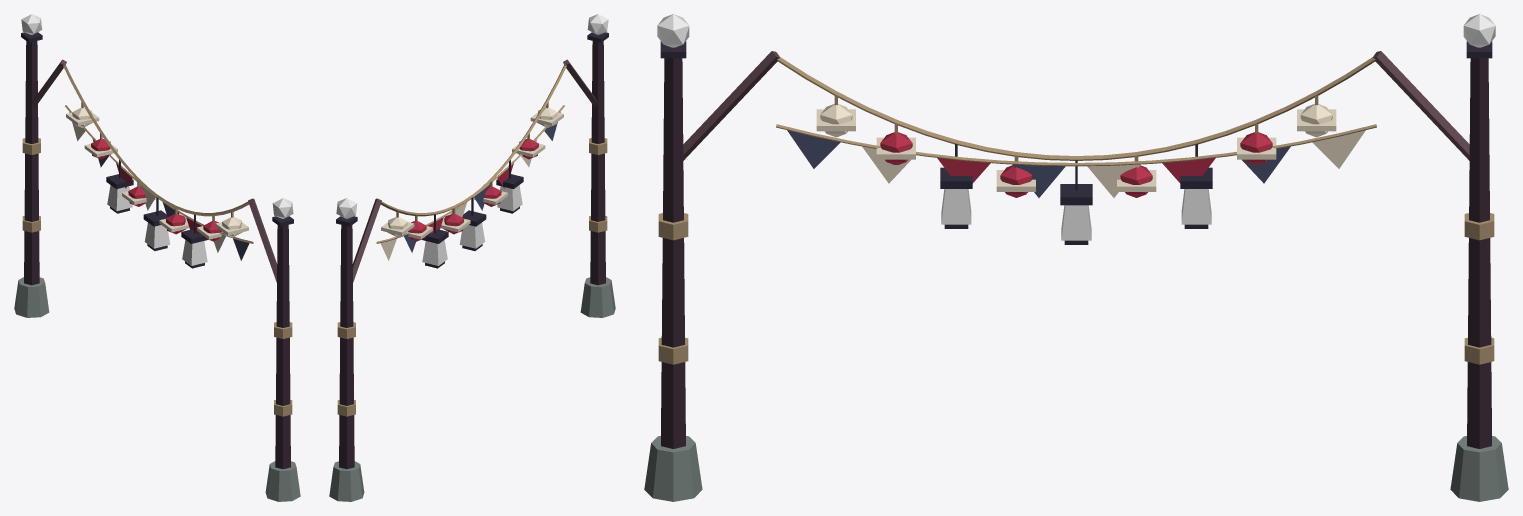
Rendered from Fair_BuoyLine.fbx.
The picture shows the model from 3 angles, left to right: view 1: azimuth 30°, elevation 25°; view 2: azimuth 150°, elevation 25°; view 3: azimuth 270°, elevation 25°; orthographic projection. The views are drawn at different scales.
Parts seen in each view (by area): view 1: Fair_BuoyLine; view 2: Fair_BuoyLine; view 3: Fair_BuoyLine.
Part boxes in pixels (x1,y1,x2,y2): Fair_BuoyLine: [14, 14, 300, 501]; Fair_BuoyLine: [329, 14, 615, 501]; Fair_BuoyLine: [644, 14, 1508, 501].
Size of what is drawn, in the model's own units: 0.68 by 6.12 by 10.08.
2 materials, 1 textured.
